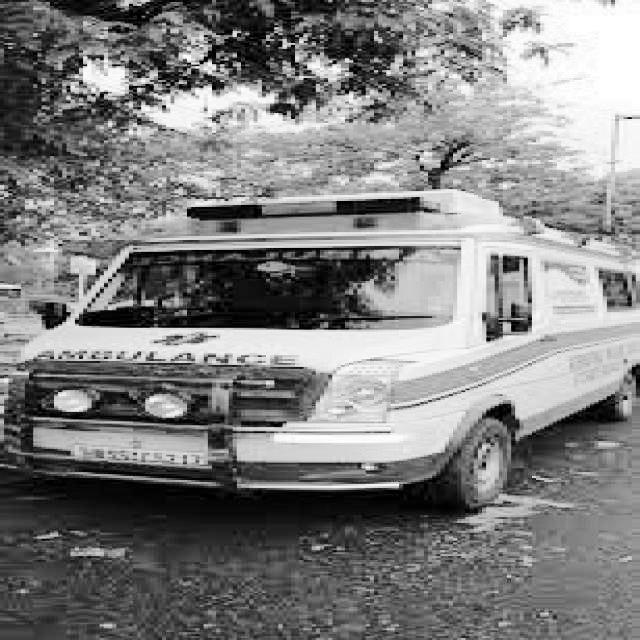LCV: (0, 191, 478, 490)
